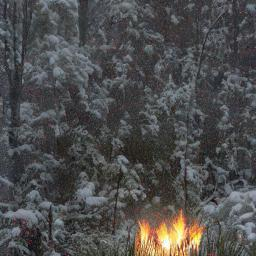Small fire: (122, 204, 211, 255)
